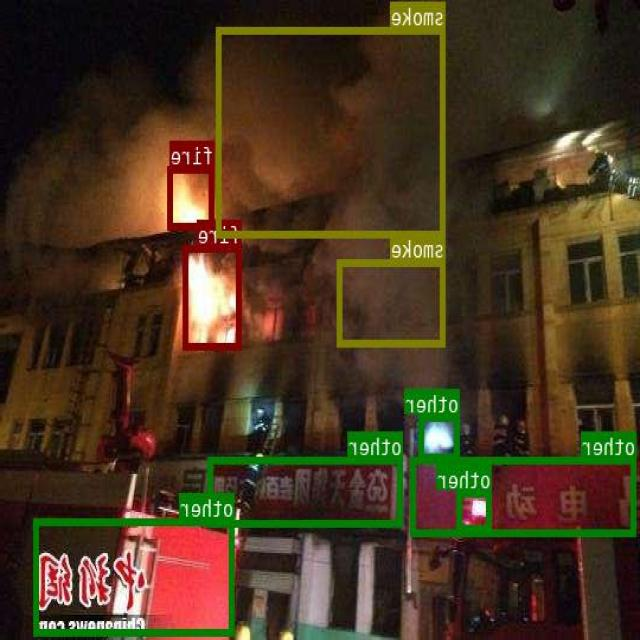fire: (185, 244, 242, 349), (168, 164, 215, 228)
other: (35, 518, 235, 635), (412, 455, 637, 536), (209, 456, 404, 526), (421, 414, 460, 459), (458, 489, 492, 531)
smoke: (217, 26, 447, 237), (339, 258, 446, 345)
